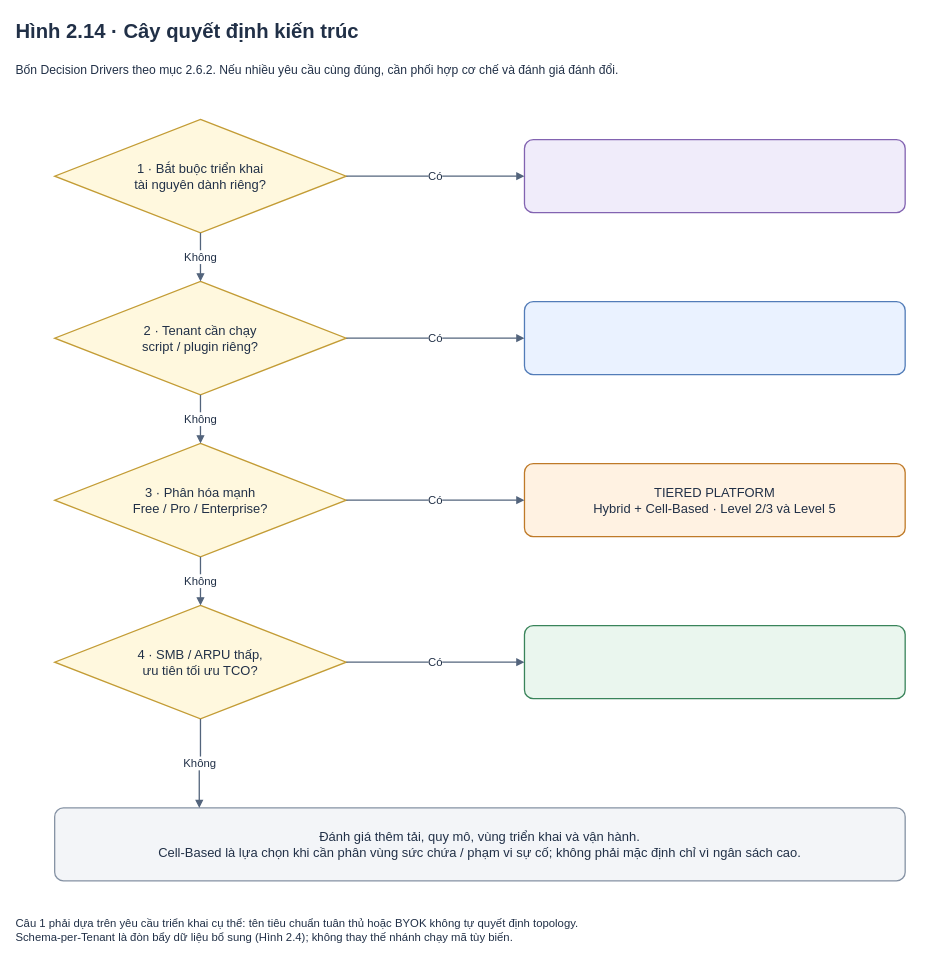
Image size: 951x969. Some labels were removed from this diagram. Each missing label, with the centre of its shape:
COMPUTE-ISOLATED / SHARED-DATA Compute Level 3 + Data Level 5 (RLS): the point at 714,338
SILO PROFILE · Level 2 Dedicated Compute + Dedicated DB: the point at 714,176
SMB / STARTUP PROFILE Pool + RLS · Level 5: the point at 714,662
